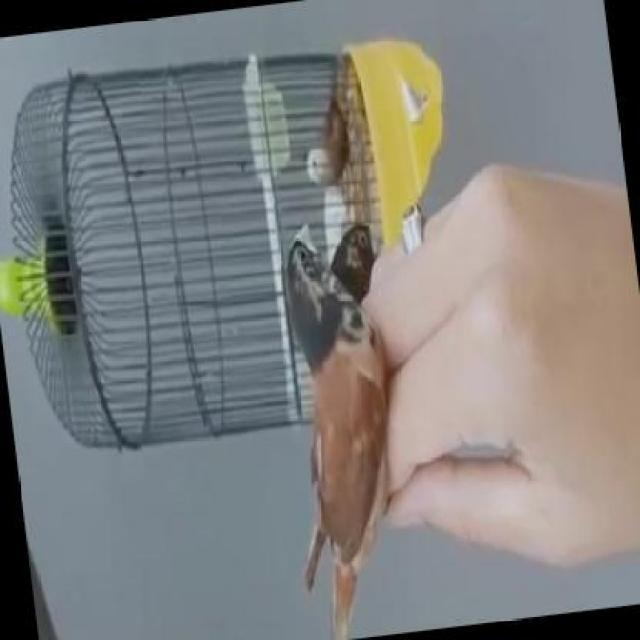Bird: (279, 217, 377, 623), (304, 103, 352, 192)
